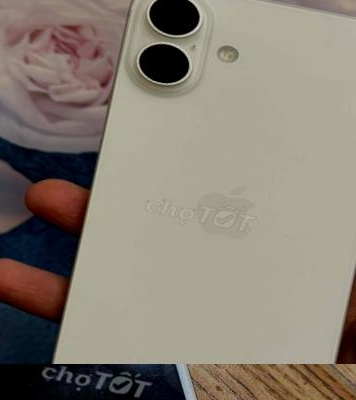scratch: (0, 382, 9, 400)
